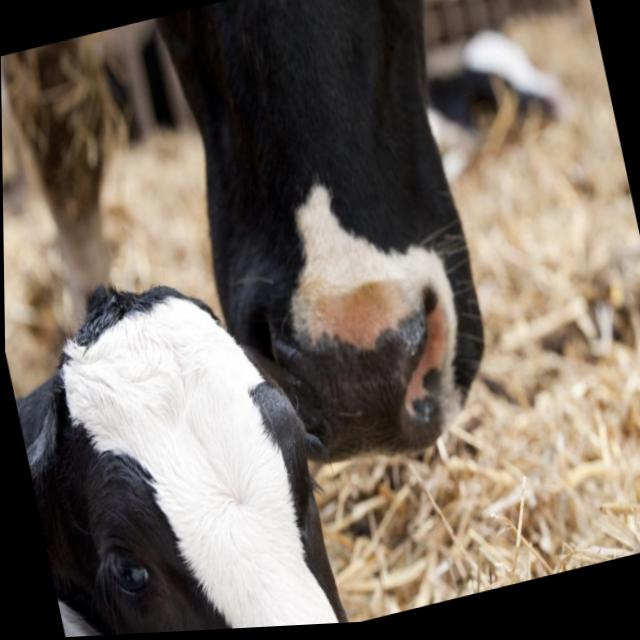cowFace: (3, 243, 353, 640)
